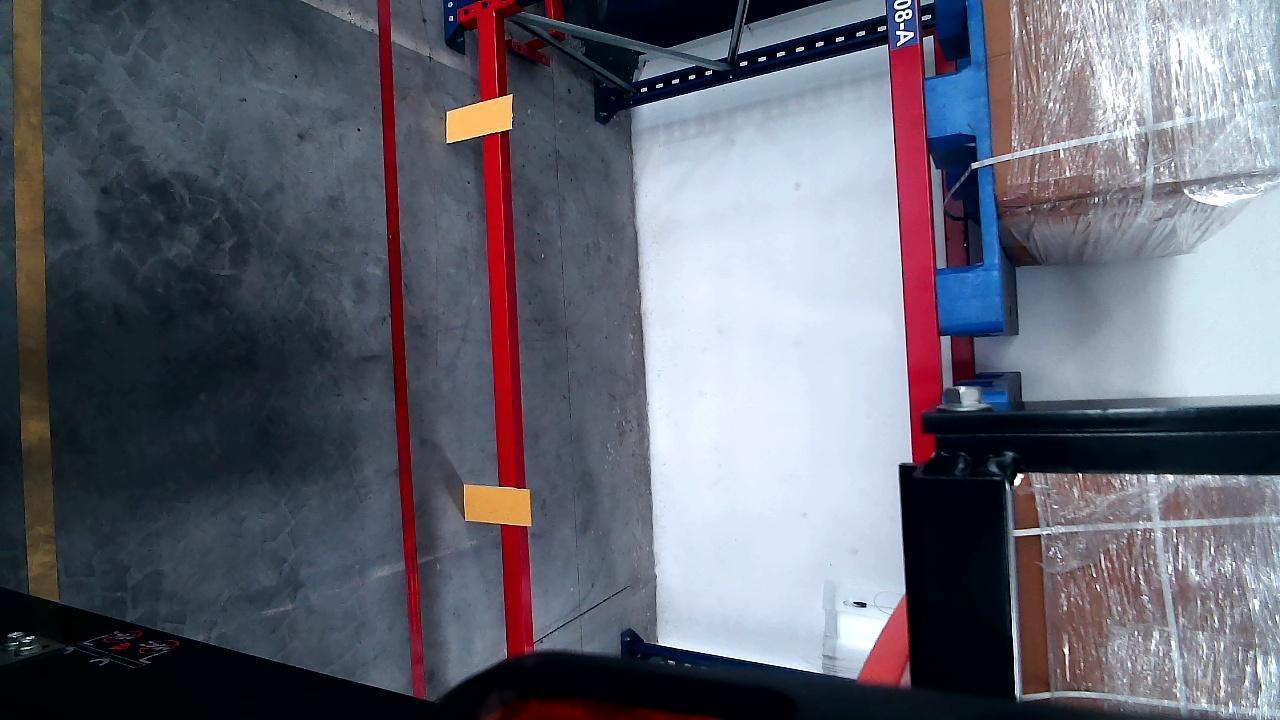h_rack: (477, 10, 529, 673), (885, 0, 940, 429)
orange_strip: (445, 95, 510, 142), (463, 484, 530, 526)
red_line: (380, 6, 423, 696)
small_pallet: (921, 3, 1008, 331)
yellow_line: (14, 0, 56, 611)
